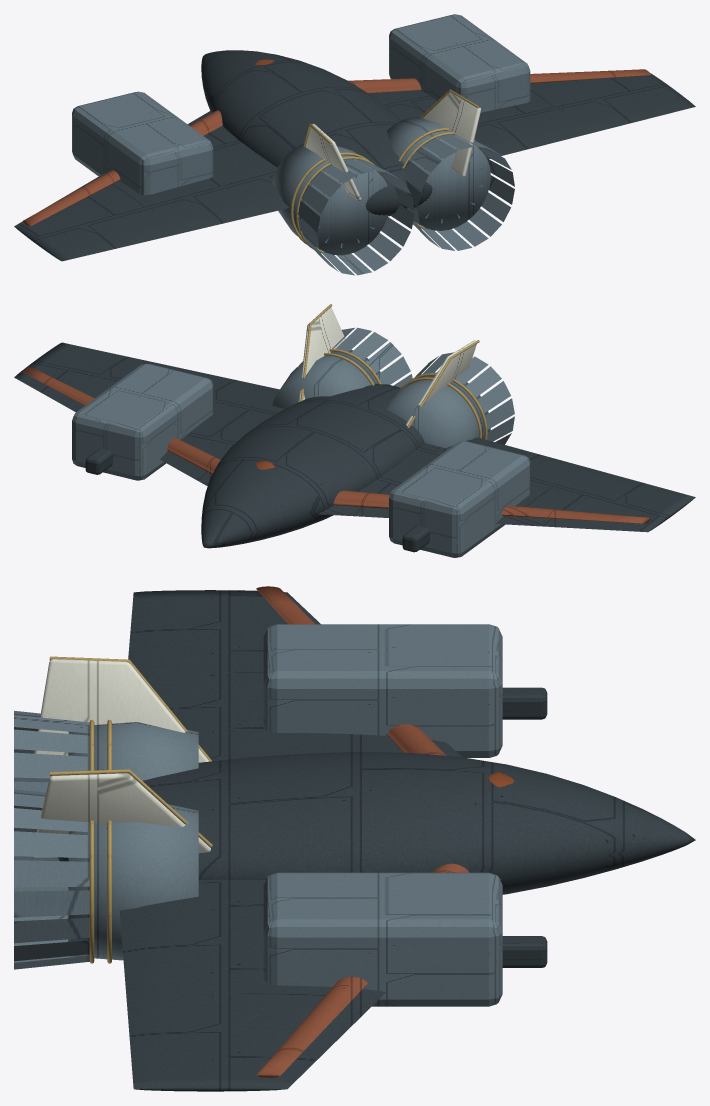
File: heavy-high.glb
3 renders of one model, top to bottom at view 1: azimuth 30°, elevation 25°; view 2: azimuth 150°, elevation 25°; view 3: azimuth 270°, elevation 25°, orthographic. The views are drawn at different scales.
Visible parts, largest first — view 1: graphite-surfaces, titanium-surfaces, hostile-surfaces, ceramic-surfaces, brass-surfaces; view 2: graphite-surfaces, titanium-surfaces, hostile-surfaces, ceramic-surfaces, brass-surfaces; view 3: graphite-surfaces, titanium-surfaces, ceramic-surfaces, hostile-surfaces, brass-surfaces.
Boxes of the visible parts, x1=… form: graphite-surfaces: x1=14, y1=50, x2=695, y2=261; titanium-surfaces: x1=72, y1=14, x2=530, y2=275; hostile-surfaces: x1=22, y1=69, x2=651, y2=226; ceramic-surfaces: x1=305, y1=92, x2=480, y2=201; brass-surfaces: x1=290, y1=89, x2=481, y2=252; graphite-surfaces: x1=14, y1=342, x2=695, y2=552; titanium-surfaces: x1=72, y1=327, x2=530, y2=557; hostile-surfaces: x1=22, y1=366, x2=651, y2=523; ceramic-surfaces: x1=298, y1=307, x2=476, y2=425; brass-surfaces: x1=299, y1=304, x2=487, y2=439; graphite-surfaces: x1=58, y1=590, x2=695, y2=1091; titanium-surfaces: x1=14, y1=624, x2=502, y2=1006; ceramic-surfaces: x1=34, y1=659, x2=210, y2=857; hostile-surfaces: x1=256, y1=586, x2=468, y2=1077; brass-surfaces: x1=49, y1=656, x2=212, y2=963.
Bounding box in the file's own units: 8.6 × 1.67 × 4.99.
Materials: 6 (5 with a texture image).
